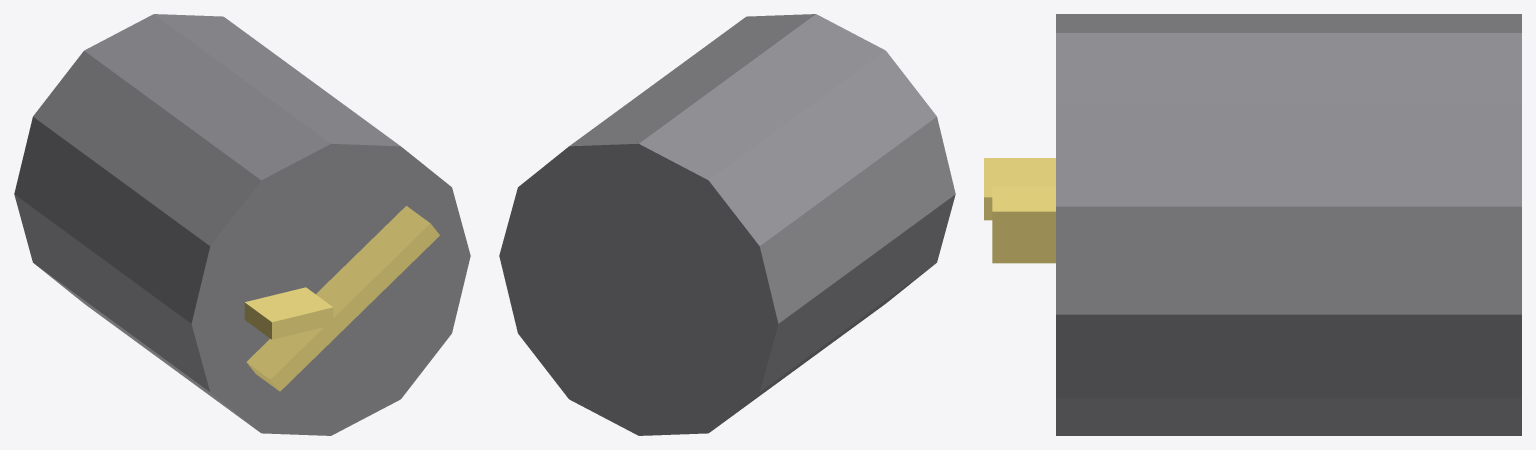
The model's file is quest_boss_key_pedestal.glb.
3 renders of one model, left to right at view 1: azimuth 30°, elevation 25°; view 2: azimuth 150°, elevation 25°; view 3: azimuth 270°, elevation 25°, orthographic. The views are drawn at different scales.
Parts seen in each view (by area): view 1: pedestal, key_long, key_head; view 2: pedestal; view 3: pedestal, key_long, key_head.
Part boxes in pixels (x1,y1,x2,y2): pedestal: (14,14,470,435); key_long: (246,206,439,391); key_head: (244,287,333,339); pedestal: (499,14,955,435); pedestal: (1056,14,1521,435); key_long: (992,186,1055,263); key_head: (984,158,1055,220).
Bounding box in the file's own units: 1 × 1 × 1.27.
